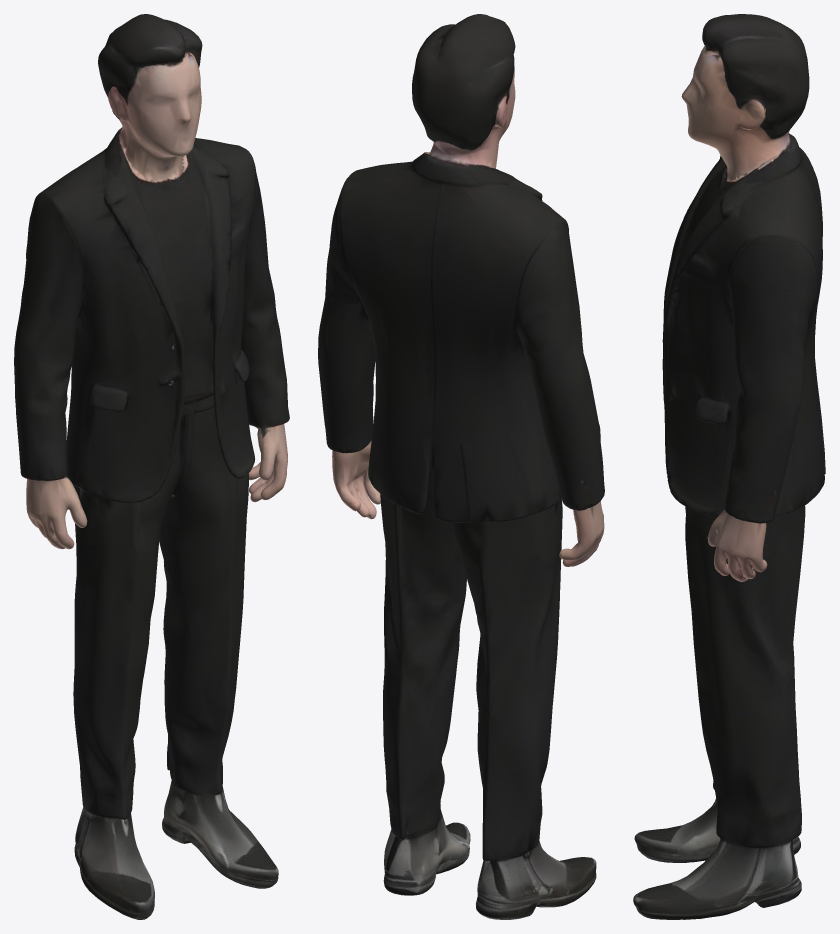
Rendered from man-01.glb.
3 views of the same model, side by side, from view 1: azimuth 30°, elevation 25°; view 2: azimuth 150°, elevation 25°; view 3: azimuth 270°, elevation 25° (orthographic). The views are drawn at different scales.
Visible parts, largest first — view 1: tripo_node_865142bd-b1f6-41b1-a0b0-c2a602b7da5c; view 2: tripo_node_865142bd-b1f6-41b1-a0b0-c2a602b7da5c; view 3: tripo_node_865142bd-b1f6-41b1-a0b0-c2a602b7da5c.
Part boxes in pixels (<box>): tripo_node_865142bd-b1f6-41b1-a0b0-c2a602b7da5c: <box>14,14,289,919</box>; tripo_node_865142bd-b1f6-41b1-a0b0-c2a602b7da5c: <box>318,14,604,919</box>; tripo_node_865142bd-b1f6-41b1-a0b0-c2a602b7da5c: <box>633,14,825,919</box>.
Bounding box in the file's own units: 0.3219 × 0.9999 × 0.2009.
Materials: 1 (1 with a texture image).
